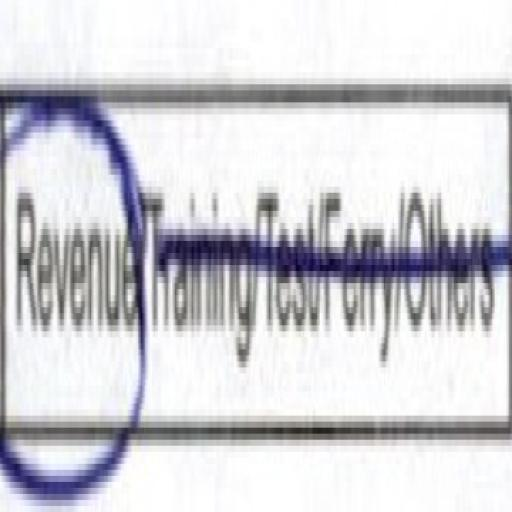check: (0, 18, 146, 512)
